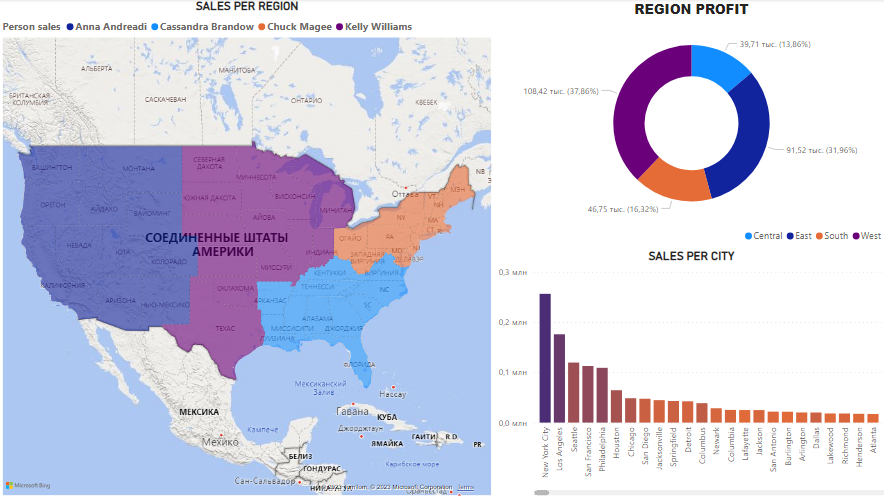

This screenshot's page, from the dashboard's own definition file:
{"tool":"powerbi","page":{"name":"Страница 2","canvas":[1280,720],"ordinal":1},"visuals":[{"type":"filledMap","title":"SALES PER REGION","fields":{"Category":["ST_Orders.State"],"Series":["ST_Orders.Person"]},"box":[0,0,714.2,720],"z":0},{"type":"donutChart","title":"REGION PROFIT","fields":{"Y":["ST_Orders.Profit"],"Series":["ST_Orders.Region"]},"box":[714.2,0,565.9,360],"z":1000},{"type":"columnChart","title":"SALES PER CITY","fields":{"Category":["ST_Orders.City"],"Y":["ST_Orders.Sales"]},"box":[714.2,360,565.9,360],"z":2000}]}

Visuals, with their boxes in screenshot pixels (x1, y1, x2, y2), scaled from the page's 1280x720 canvas onto the 884x498 screenshot:
"SALES PER REGION" filledMap: BBox(0, 0, 493, 497)
"REGION PROFIT" donutChart: BBox(493, 0, 883, 249)
"SALES PER CITY" columnChart: BBox(493, 249, 883, 497)
